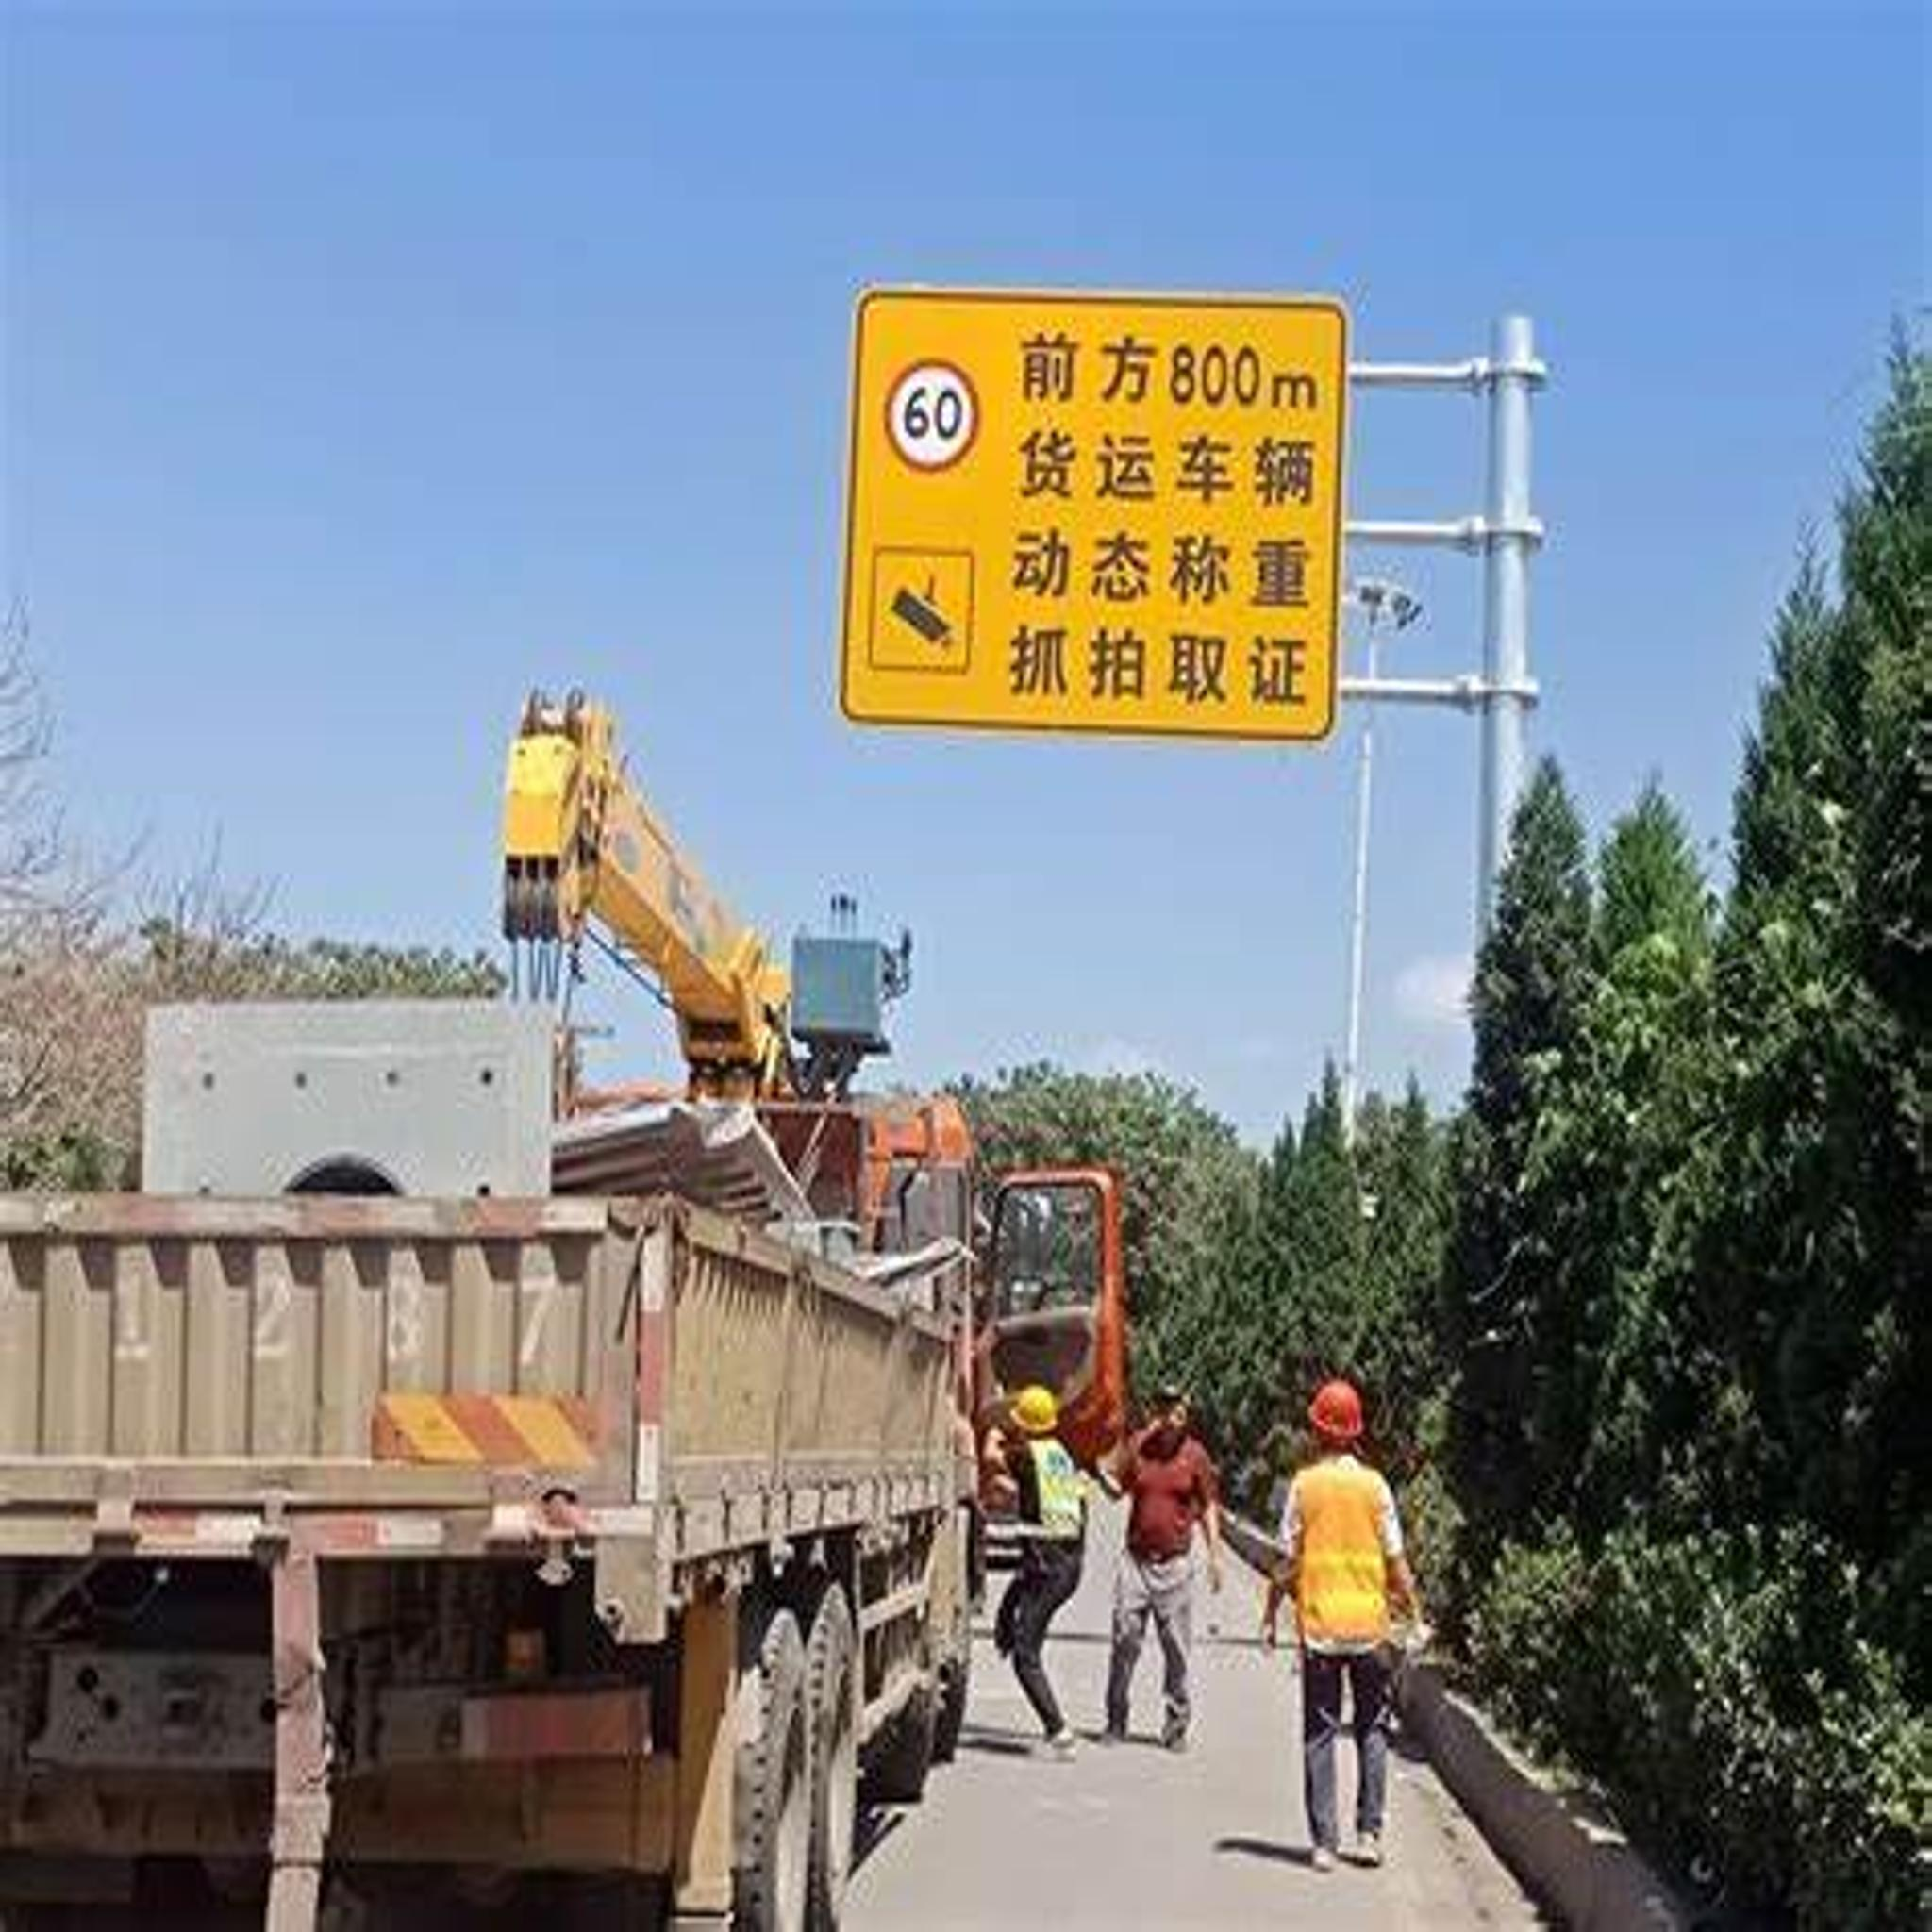pl60: (883, 354, 984, 462)
